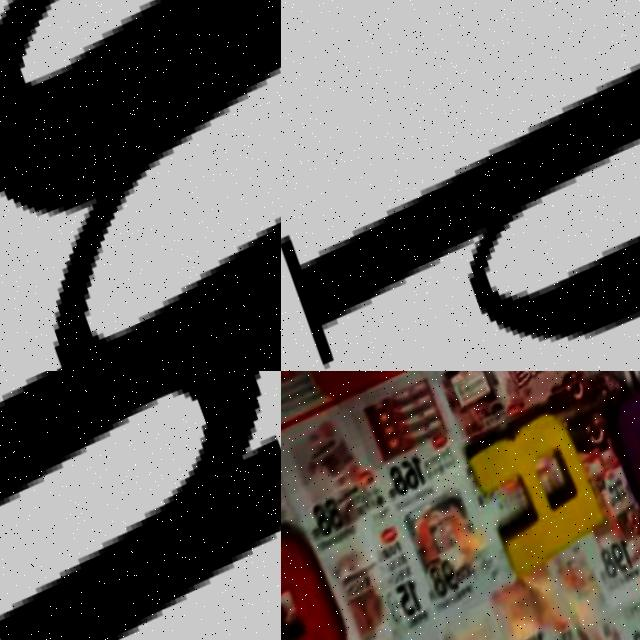G: (600, 371, 640, 533)
M: (0, 371, 281, 640)
Q: (281, 0, 640, 371)
R: (462, 398, 611, 586)
U: (0, 0, 281, 371)
